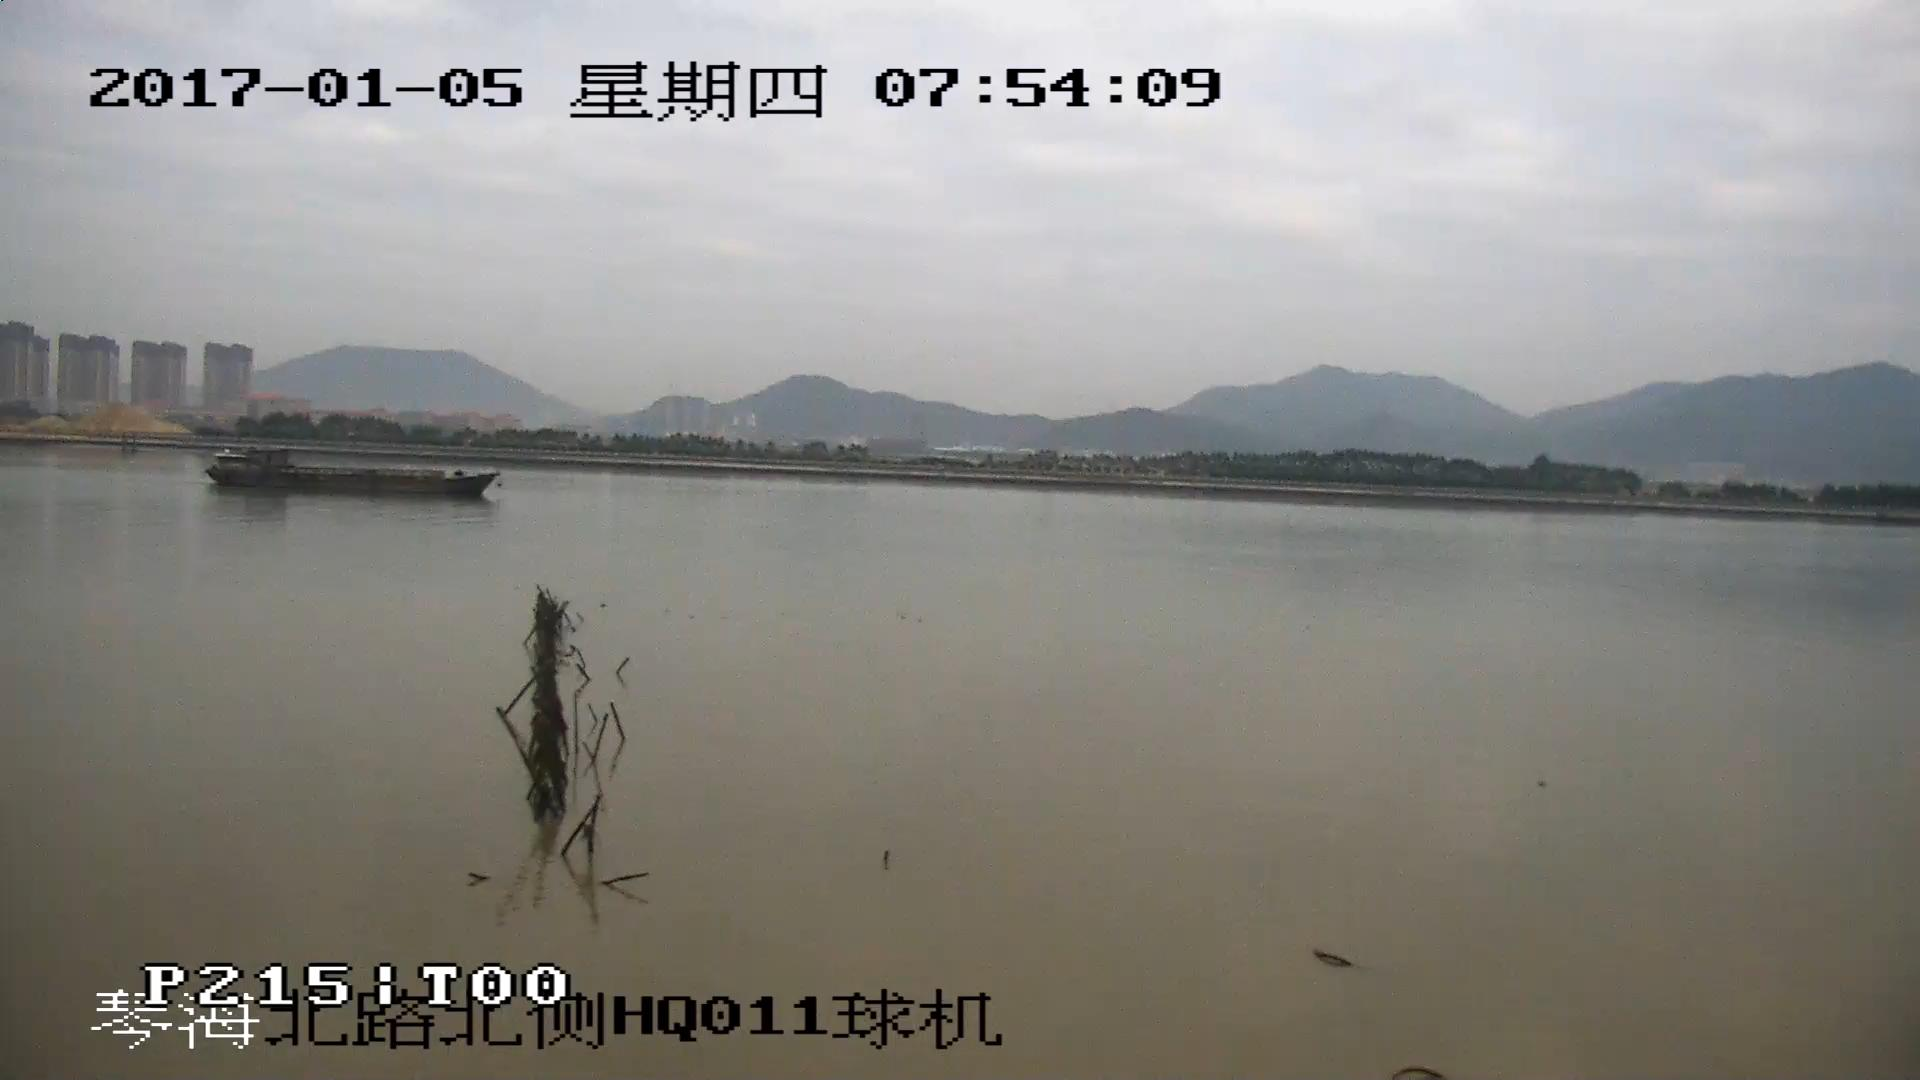bulk cargo carrier: (206, 448, 498, 495)
